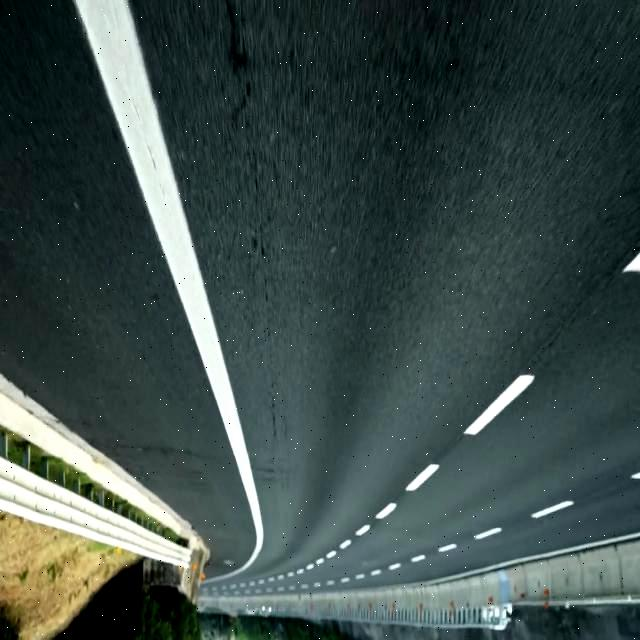lane: (76, 1, 264, 579), (465, 375, 535, 435), (405, 464, 438, 491), (375, 503, 398, 519), (357, 527, 366, 535)
road: (131, 1, 640, 589), (1, 1, 255, 576)
